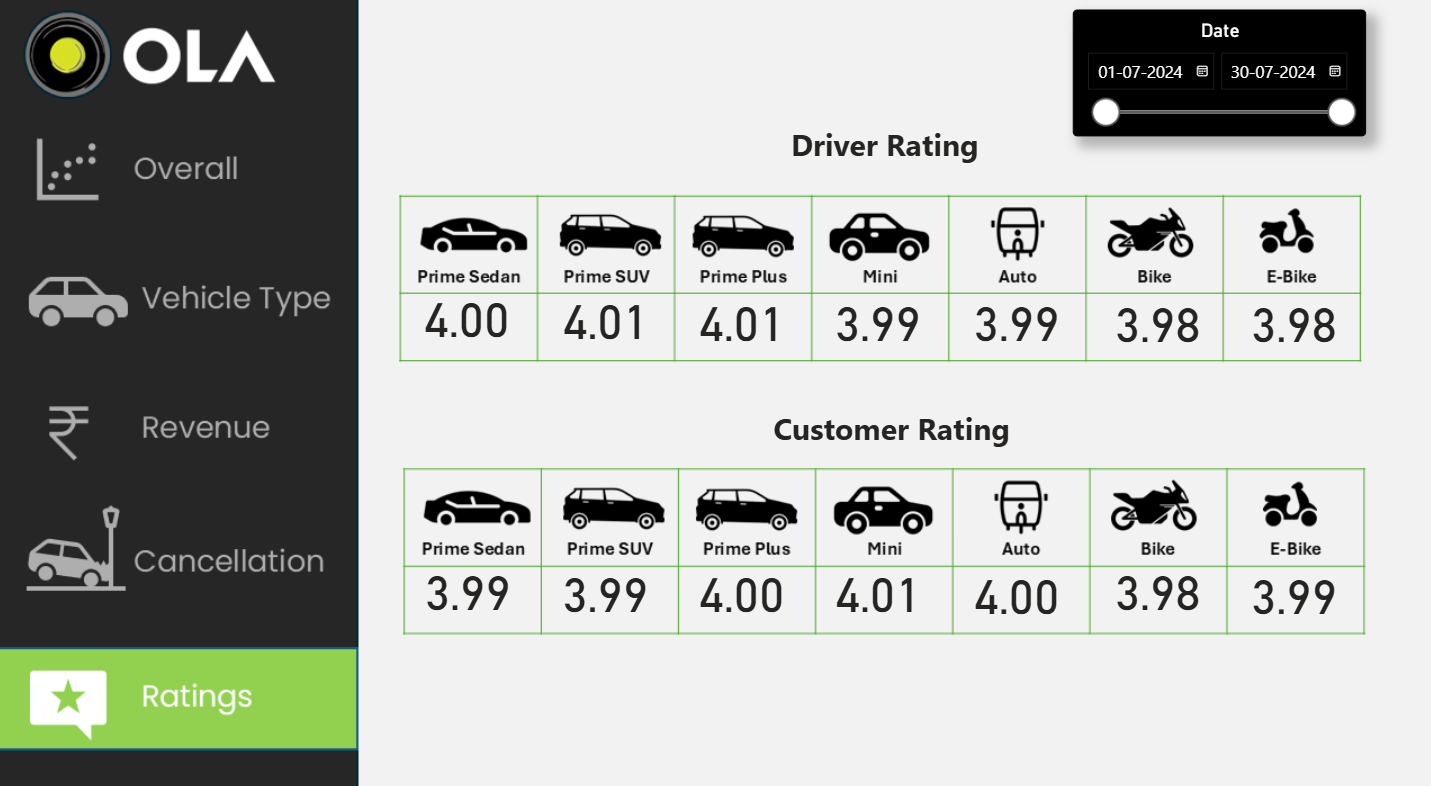

The dashboard page shown, as its layout file describes it:
{"tool":"powerbi","page":{"name":"Ratings","canvas":[1280,720],"ordinal":4},"visuals":[{"type":"actionButton","box":[0,447.9,322.7,90.8],"z":0},{"type":"actionButton","box":[0,108,322.7,90.8],"z":1000},{"type":"actionButton","box":[0,224.5,322.7,90.8],"z":2000},{"type":"actionButton","box":[1.2,341.1,322.7,90.8],"z":3000},{"type":"card","fields":{"Values":["Avg(Bookings-40000-Rows.Driver_Ratings)"]},"box":[365.3,249.5,109.3,66.9],"z":4000},{"type":"card","fields":{"Values":["Avg(Bookings-40000-Rows.Driver_Ratings)"]},"box":[489.3,251.2,109.3,66.9],"z":5000},{"type":"card","fields":{"Values":["Avg(Bookings-40000-Rows.Driver_Ratings)"]},"box":[610,252.8,109.3,66.9],"z":6000},{"type":"card","fields":{"Values":["Avg(Bookings-40000-Rows.Driver_Ratings)"]},"box":[730.7,252.8,109.3,66.9],"z":7000},{"type":"card","fields":{"Values":["Avg(Bookings-40000-Rows.Driver_Ratings)"]},"box":[854.6,252.8,109.3,66.9],"z":8000},{"type":"card","fields":{"Values":["Avg(Bookings-40000-Rows.Driver_Ratings)"]},"box":[980.2,254.4,109.3,66.9],"z":9000},{"type":"card","fields":{"Values":["Avg(Bookings-40000-Rows.Driver_Ratings)"]},"box":[1100.9,254.4,109.3,66.9],"z":10000},{"type":"textbox","box":[703,107.6,244.6,53.8],"z":11000},{"type":"textbox","box":[688.3,360.4,241.4,88.1],"z":11001},{"type":"card","fields":{"Values":["Avg(Bookings-40000-Rows.Customer_Rating)"]},"box":[367,492.6,109.3,66.9],"z":11002},{"type":"card","fields":{"Values":["Avg(Bookings-40000-Rows.Customer_Rating)"]},"box":[489.3,494.2,109.3,66.9],"z":11003},{"type":"card","fields":{"Values":["Avg(Bookings-40000-Rows.Customer_Rating)"]},"box":[610,494.2,109.3,66.9],"z":11004},{"type":"card","fields":{"Values":["Avg(Bookings-40000-Rows.Customer_Rating)"]},"box":[730.7,494.2,109.3,66.9],"z":11005},{"type":"card","fields":{"Values":["Avg(Bookings-40000-Rows.Customer_Rating)"]},"box":[854.6,495.8,109.3,66.9],"z":11006},{"type":"card","fields":{"Values":["Avg(Bookings-40000-Rows.Customer_Rating)"]},"box":[980.2,492.6,109.3,66.9],"z":11007},{"type":"card","fields":{"Values":["Avg(Bookings-40000-Rows.Customer_Rating)"]},"box":[1100.9,495.8,109.3,66.9],"z":11008},{"type":"slicer","title":"Date","fields":{"Values":["Bookings-40000-Rows.Date"]},"box":[959,11.4,261,112.5],"z":11009}]}

Visuals, with their boxes in screenshot pixels (x1, y1, x2, y2), scaled from the page's 1280x720 canvas onto the 1431x786 screenshot:
actionButton: <box>0,489,361,588</box>
actionButton: <box>0,118,361,217</box>
actionButton: <box>0,245,361,344</box>
actionButton: <box>1,372,362,471</box>
card - Avg(Bookings-40000-Rows.Driver_Ratings): <box>408,272,531,345</box>
card - Avg(Bookings-40000-Rows.Driver_Ratings): <box>547,274,669,347</box>
card - Avg(Bookings-40000-Rows.Driver_Ratings): <box>682,276,804,349</box>
card - Avg(Bookings-40000-Rows.Driver_Ratings): <box>817,276,939,349</box>
card - Avg(Bookings-40000-Rows.Driver_Ratings): <box>955,276,1078,349</box>
card - Avg(Bookings-40000-Rows.Driver_Ratings): <box>1096,278,1218,351</box>
card - Avg(Bookings-40000-Rows.Driver_Ratings): <box>1231,278,1353,351</box>
textbox: <box>786,117,1059,176</box>
textbox: <box>769,393,1039,490</box>
card - Avg(Bookings-40000-Rows.Customer_Rating): <box>410,538,532,611</box>
card - Avg(Bookings-40000-Rows.Customer_Rating): <box>547,540,669,613</box>
card - Avg(Bookings-40000-Rows.Customer_Rating): <box>682,540,804,613</box>
card - Avg(Bookings-40000-Rows.Customer_Rating): <box>817,540,939,613</box>
card - Avg(Bookings-40000-Rows.Customer_Rating): <box>955,541,1078,614</box>
card - Avg(Bookings-40000-Rows.Customer_Rating): <box>1096,538,1218,611</box>
card - Avg(Bookings-40000-Rows.Customer_Rating): <box>1231,541,1353,614</box>
"Date" slicer: <box>1072,12,1364,135</box>
